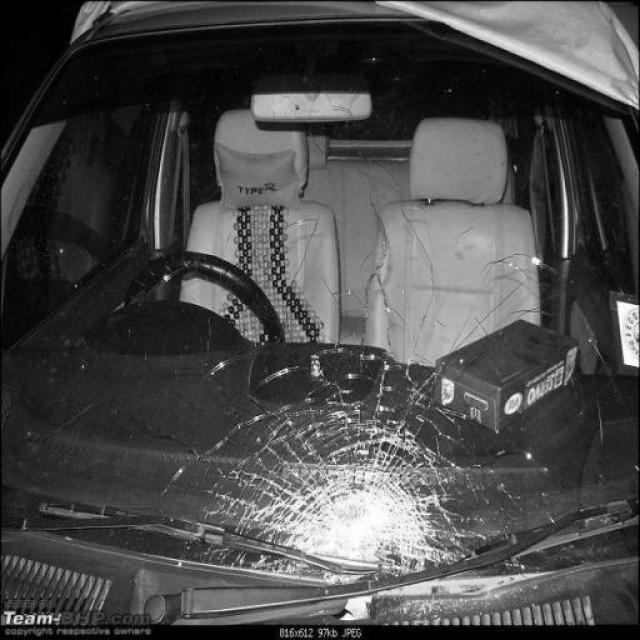crack: (253, 417, 451, 562)
